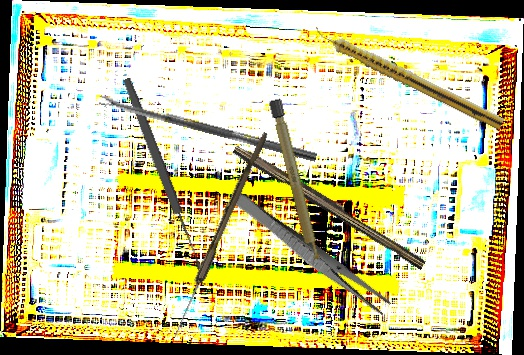Dressing Forceps: (227, 189, 393, 317)
Handpiece: (310, 23, 507, 131)
Scalpel Handle: (230, 141, 430, 270), (268, 97, 323, 270)
Surgical Spoon: (170, 129, 269, 340), (120, 76, 206, 272), (98, 94, 318, 162)
